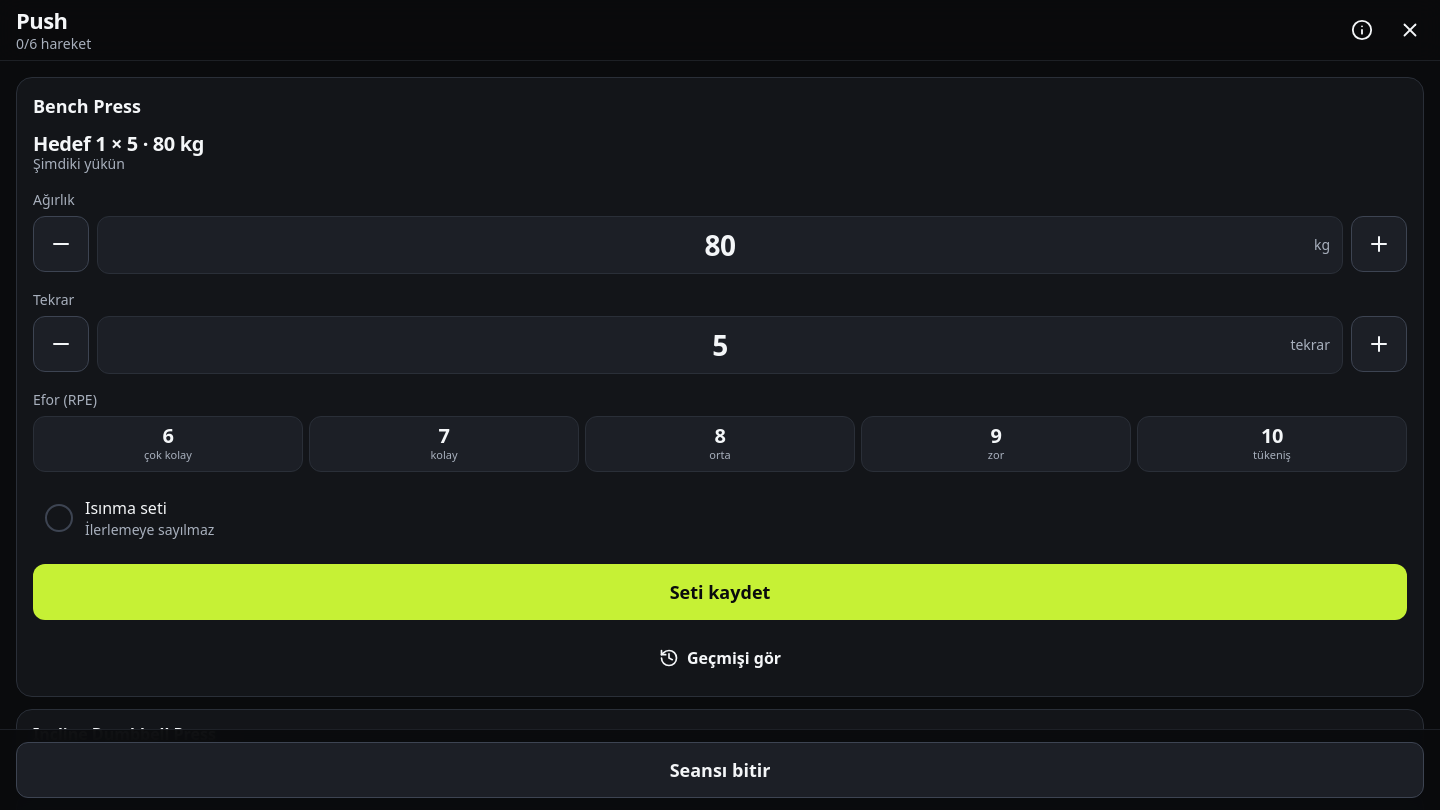
SessionScreen with a running session › saves a set with weight, reps and RPE under the running session
Click the radio button with aria-label "RPE 9, zor".
click(996, 444)  # box [861,416,1131,472]
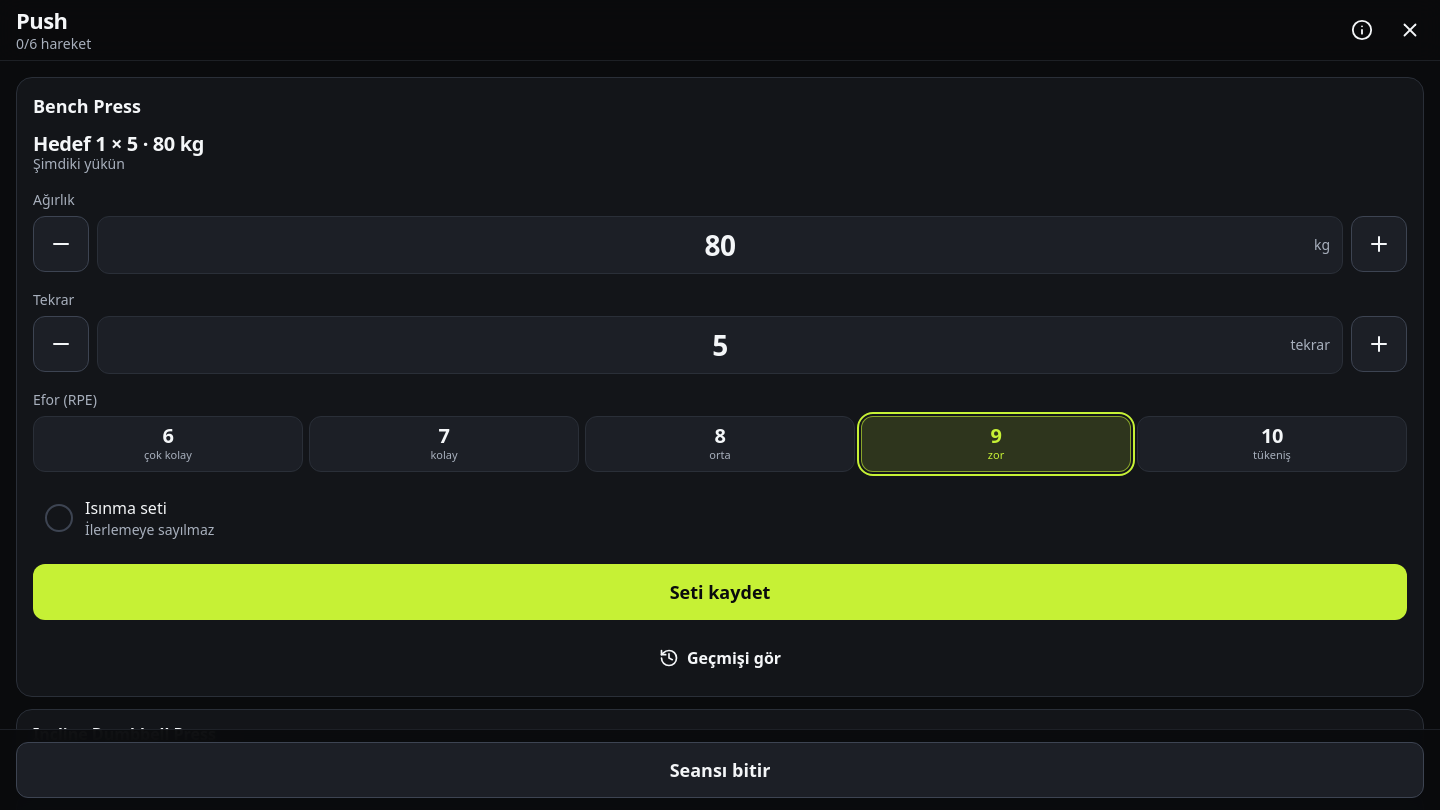
Click the button "Seti kaydet".
click(720, 592)  # box [33,564,1407,620]
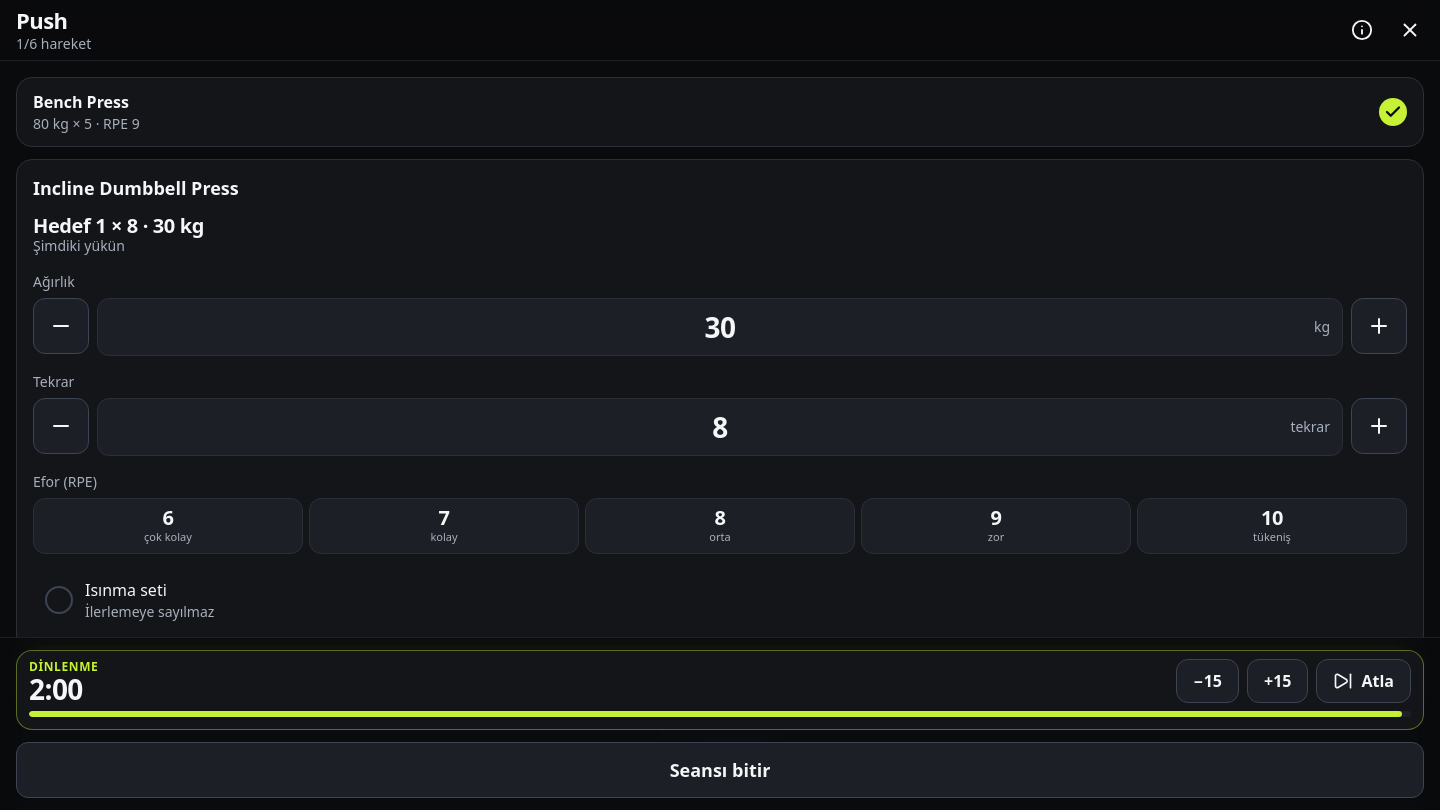
Result: the text "1/6 hareket" is shown at [16,34,91,53]
